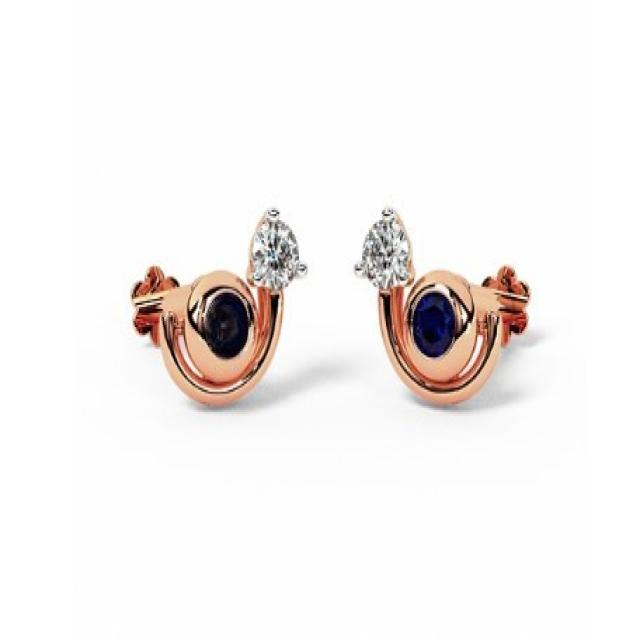missing gem: (205, 293, 248, 358)
